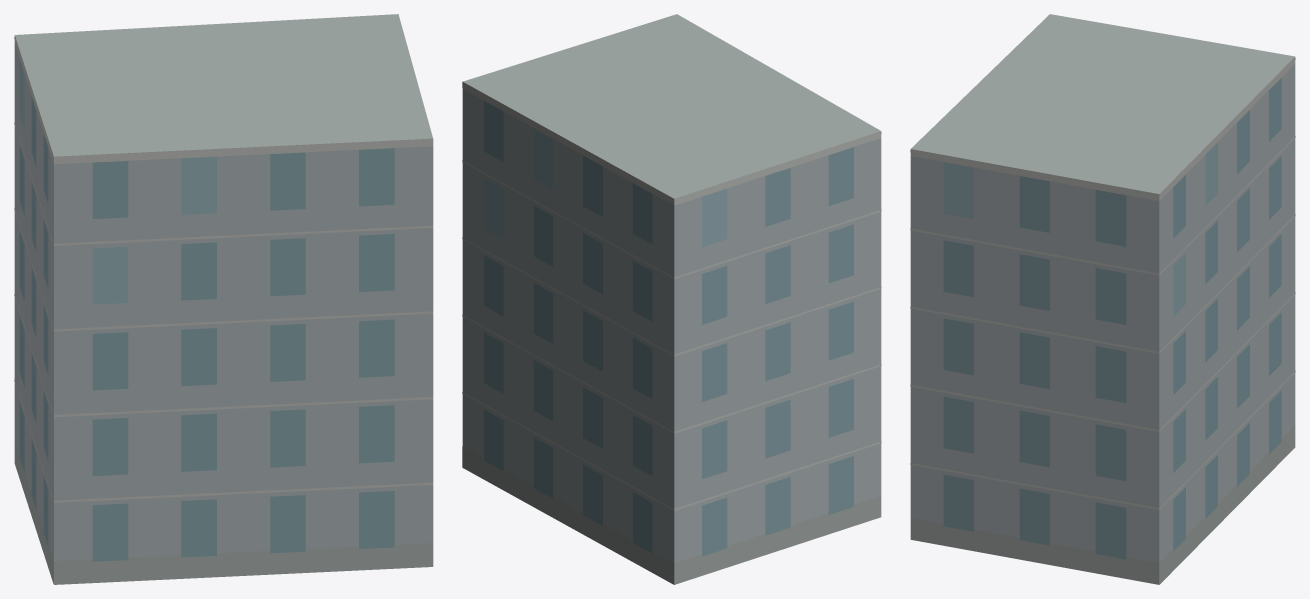
Rendered from survey-upis-32654519.glb.
3 views of the same model, side by side, from view 1: azimuth 30°, elevation 25°; view 2: azimuth 150°, elevation 25°; view 3: azimuth 270°, elevation 25° (orthographic). The views are drawn at different scales.
Visible parts, largest first — view 1: survey-upis-32654519.tmp; view 2: survey-upis-32654519.tmp; view 3: survey-upis-32654519.tmp.
Boxes of the visible parts, x1,y1,x2,y2 form: survey-upis-32654519.tmp: (14,14,433,584); survey-upis-32654519.tmp: (462,14,881,584); survey-upis-32654519.tmp: (910,14,1295,584).
Bounding box in the file's own units: 13.56 × 13.69 × 12.24.
